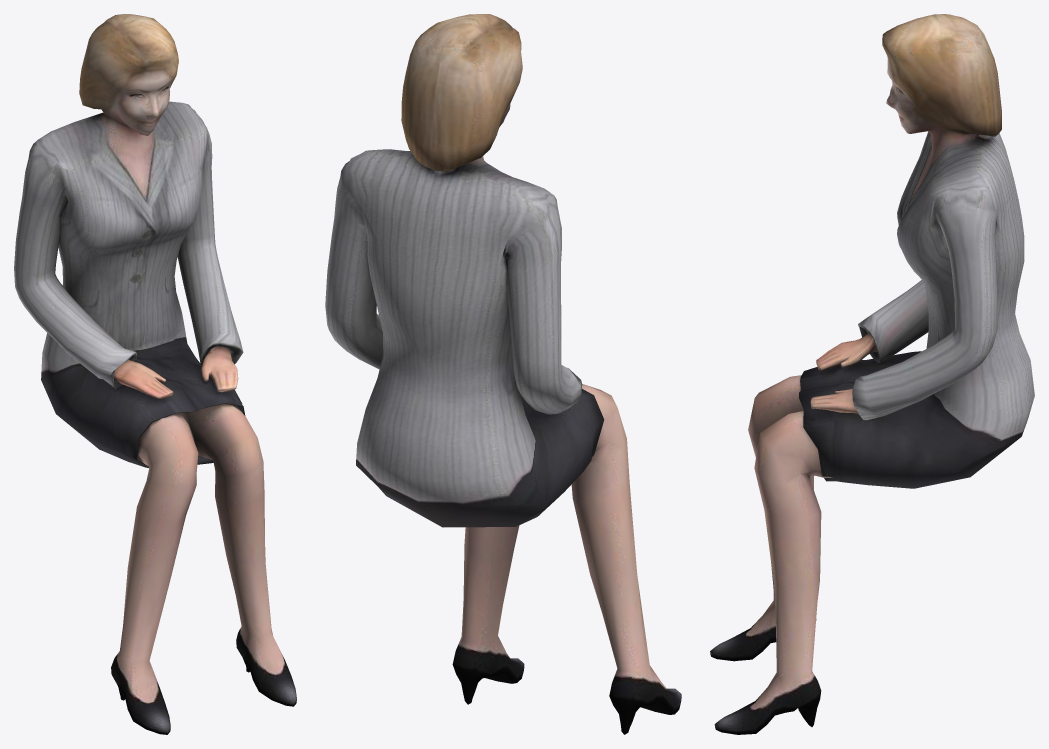
File: GirlSitter1.FBX
3 renders of one model, left to right at view 1: azimuth 30°, elevation 25°; view 2: azimuth 150°, elevation 25°; view 3: azimuth 270°, elevation 25°, orthographic. The views are drawn at different scales.
Parts seen in each view (by area): view 1: SBP_12_02; view 2: SBP_12_02; view 3: SBP_12_02.
Boxes of the visible parts, left/top/right/bottom form: SBP_12_02: left=14, top=14, right=296, bottom=734; SBP_12_02: left=325, top=14, right=681, bottom=734; SBP_12_02: left=710, top=14, right=1034, bottom=734.
Size of the model in its own units: 16.82 by 52.09 by 22.47.
1 material, 1 textured.
